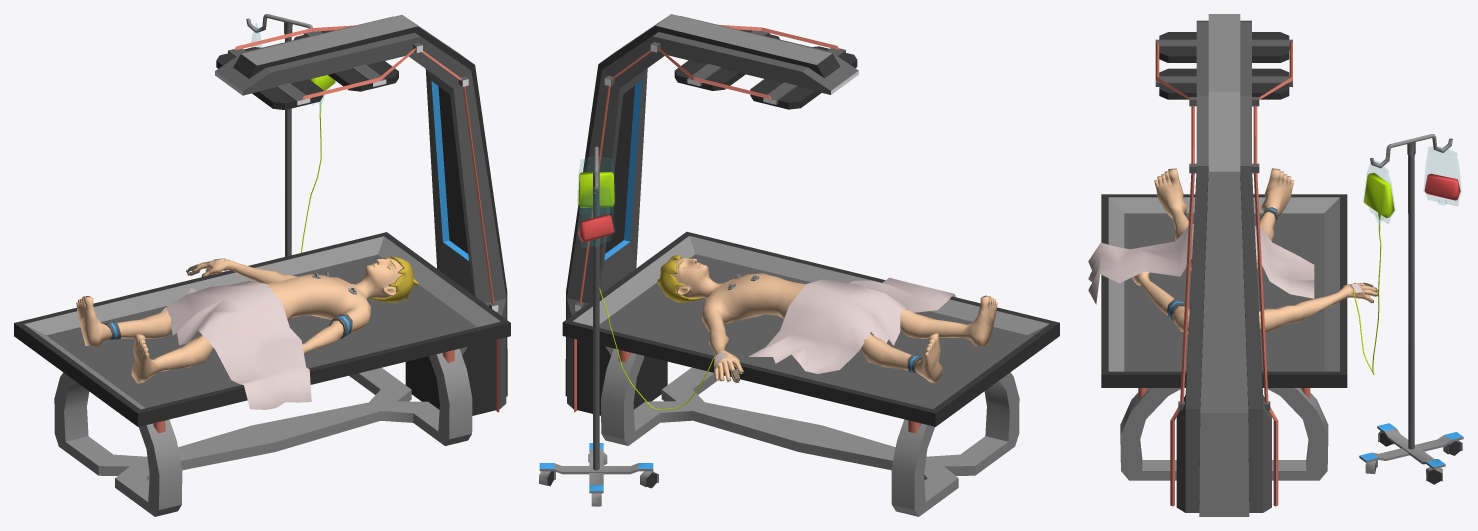
Rendered from Human_Laying.FBX.
3 renders of one model, left to right at view 1: azimuth 30°, elevation 25°; view 2: azimuth 150°, elevation 25°; view 3: azimuth 270°, elevation 25°, orthographic.
Parts seen in each view (by area): view 1: Operation_Table, Human_Laying, IV_Drip; view 2: Operation_Table, Human_Laying, IV_Drip; view 3: Operation_Table, Human_Laying, IV_Drip.
Boxes of the visible parts, bbox=[...] form: Operation_Table: bbox=[14, 15, 510, 516]; Human_Laying: bbox=[76, 256, 418, 409]; IV_Drip: bbox=[246, 14, 335, 256]; Operation_Table: bbox=[562, 14, 1059, 516]; Human_Laying: bbox=[657, 255, 997, 383]; IV_Drip: bbox=[539, 146, 716, 506]; Operation_Table: bbox=[1101, 14, 1347, 516]; Human_Laying: bbox=[1088, 168, 1377, 333]; IV_Drip: bbox=[1353, 134, 1463, 484].
Bounding box in the file's own units: 303 × 270 × 237.
4 materials, 2 textured.
